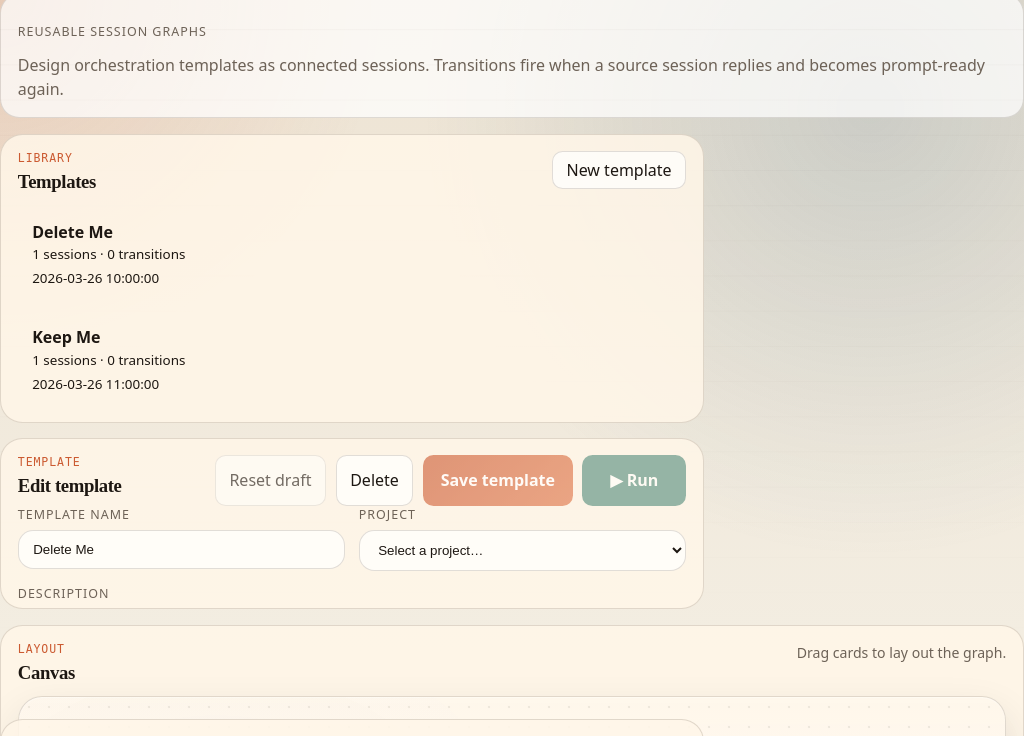
Test: OrchestratorTemplatesPanel › deletes the selected template and selects the next available template
The image size is (1024, 736).
Expected: the field showing "Delete Me" is shown, [18,530,345,570]
Click the button "Delete" at {"x": 374, "y": 481}, box [336,455,413,506]
(page scrolled)
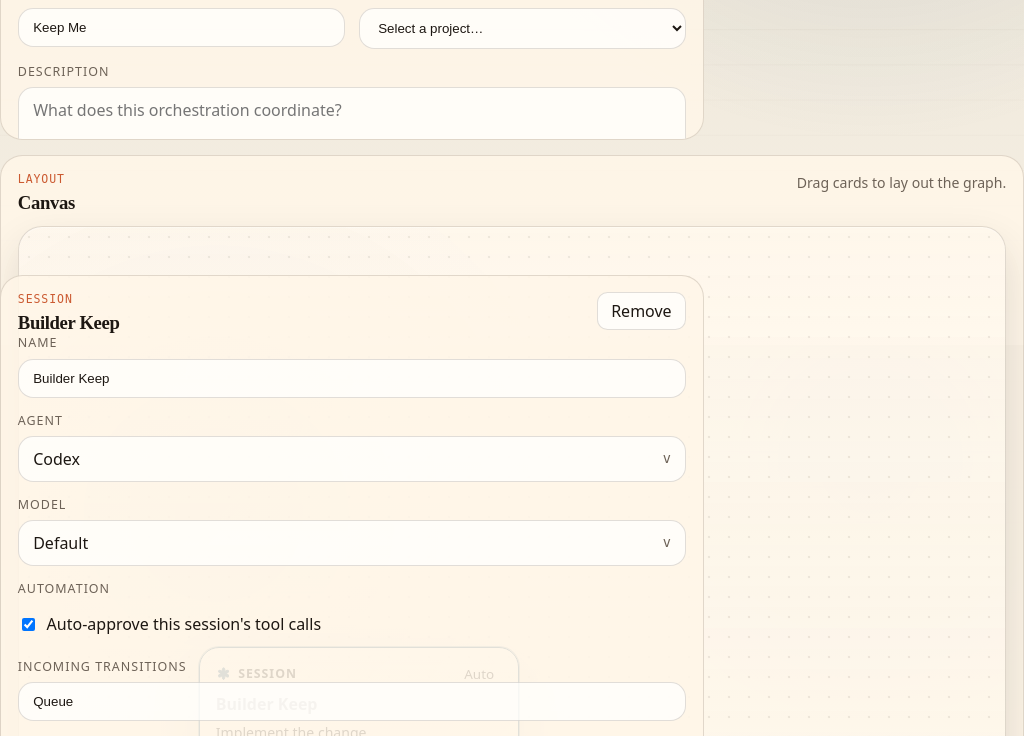
Now the text "Template deleted." is shown, box [18,181,136,200]
Now the field labelled "Template name" holds "Keep Me", box [18,8,345,47]
Now the field labelled "Name" holds "Builder Keep", box [18,359,686,398]
